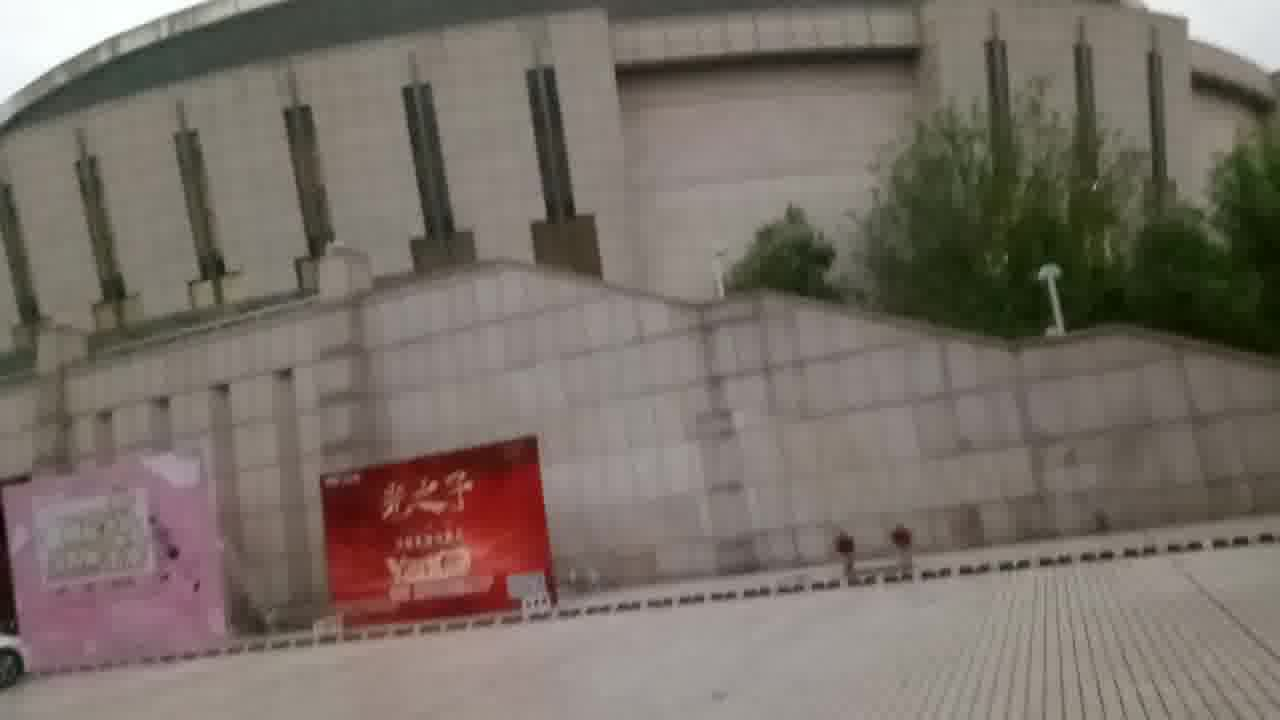zhongtiww: (1, 1, 1280, 593)
